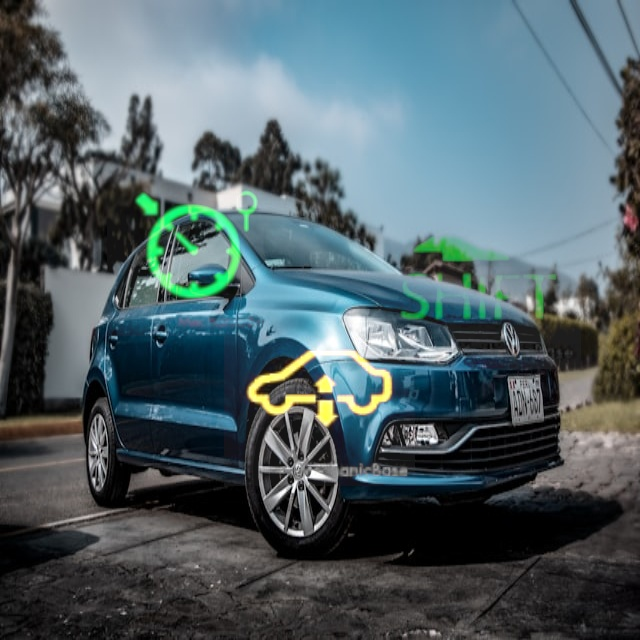symbol: (374, 162, 581, 369), (224, 295, 415, 486), (107, 156, 287, 336)
